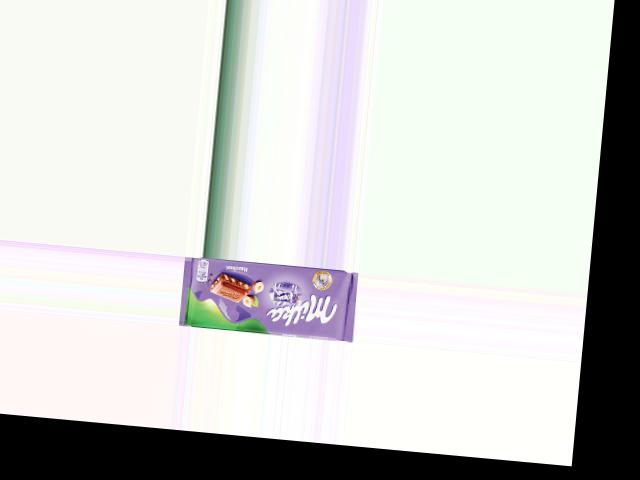chocolate: (178, 255, 358, 341)
